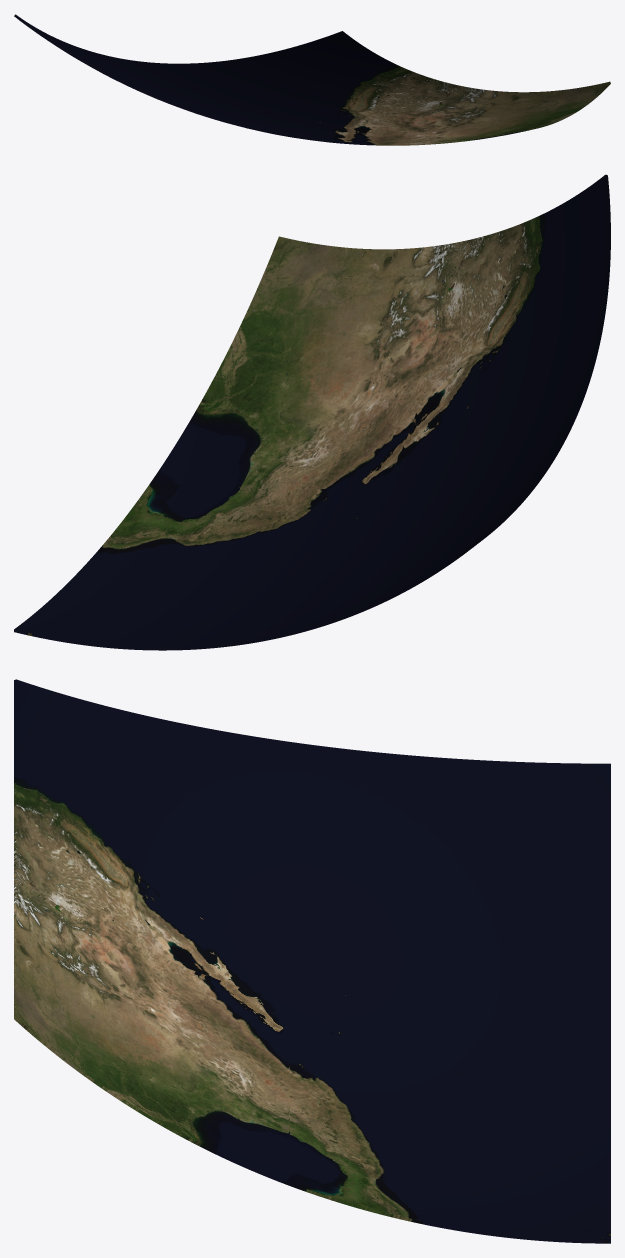
3 views of the same model, one above another, from view 1: azimuth 30°, elevation 25°; view 2: azimuth 150°, elevation 25°; view 3: azimuth 270°, elevation 25° (orthographic). The views are drawn at different scales.
Parts seen in each view (by area): view 1: DefaultName.001, DefaultName.003, DefaultName.007; view 2: DefaultName.003, DefaultName.005, DefaultName.001, DefaultName.007; view 3: DefaultName.007, DefaultName.001, DefaultName.005, DefaultName.003.
Part boxes in pixels (x1=…): DefaultName.001: x1=160, y1=31, x2=465, y2=138; DefaultName.003: x1=322, y1=81, x2=610, y2=145; DefaultName.007: x1=14, y1=14, x2=320, y2=138; DefaultName.003: x1=157, y1=236, x2=455, y2=491; DefaultName.005: x1=14, y1=473, x2=386, y2=650; DefaultName.001: x1=388, y1=174, x2=610, y2=481; DefaultName.007: x1=263, y1=392, x2=585, y2=640; DefaultName.007: x1=288, y1=742, x2=610, y2=1047; DefaultName.001: x1=14, y1=679, x2=289, y2=1002; DefaultName.005: x1=288, y1=1002, x2=610, y2=1243; DefaultName.003: x1=14, y1=879, x2=289, y2=1184.
Bounding box in the file's own units: 45100 × 31962 × 44873.
4 materials, 4 textured.
